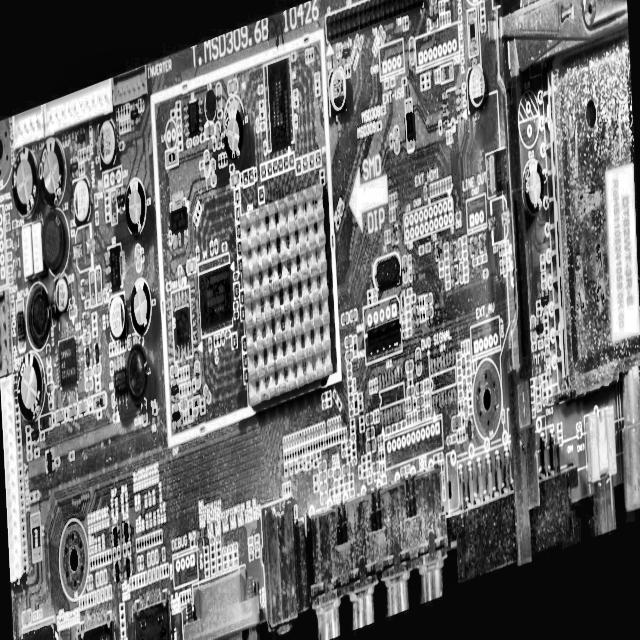PCB: (0, 6, 638, 640)
